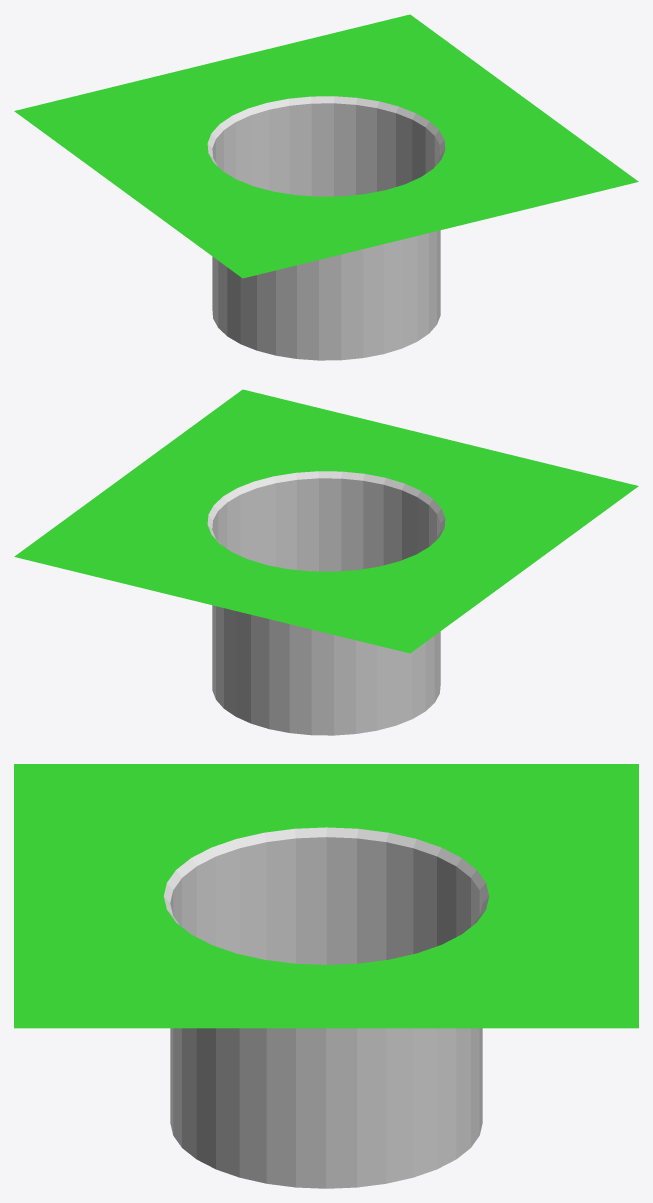
Rendered from Hole.fbx.
The picture shows the model from 3 angles, top to bottom: view 1: azimuth 30°, elevation 25°; view 2: azimuth 150°, elevation 25°; view 3: azimuth 270°, elevation 25°; orthographic projection. The views are drawn at different scales.
Visible parts, largest first — view 1: Hole; view 2: Hole; view 3: Hole.
Part boxes in pixels (x1,y1,x2,y2): Hole: [14, 14, 638, 360]; Hole: [14, 389, 638, 735]; Hole: [14, 764, 638, 1188].
Size of the model in its own units: 400 by 160 by 400.
